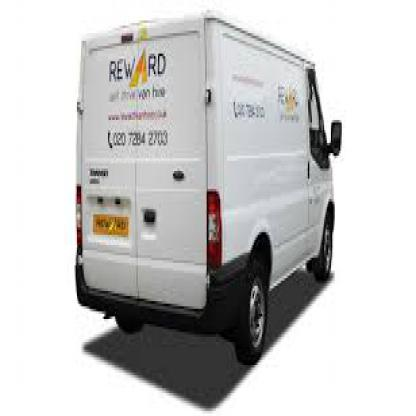van: (73, 7, 342, 368)
